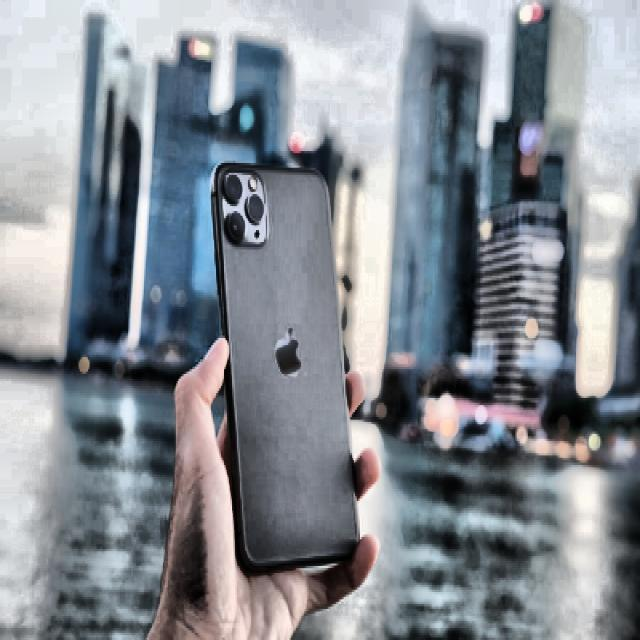Phone: (210, 159, 360, 573)
